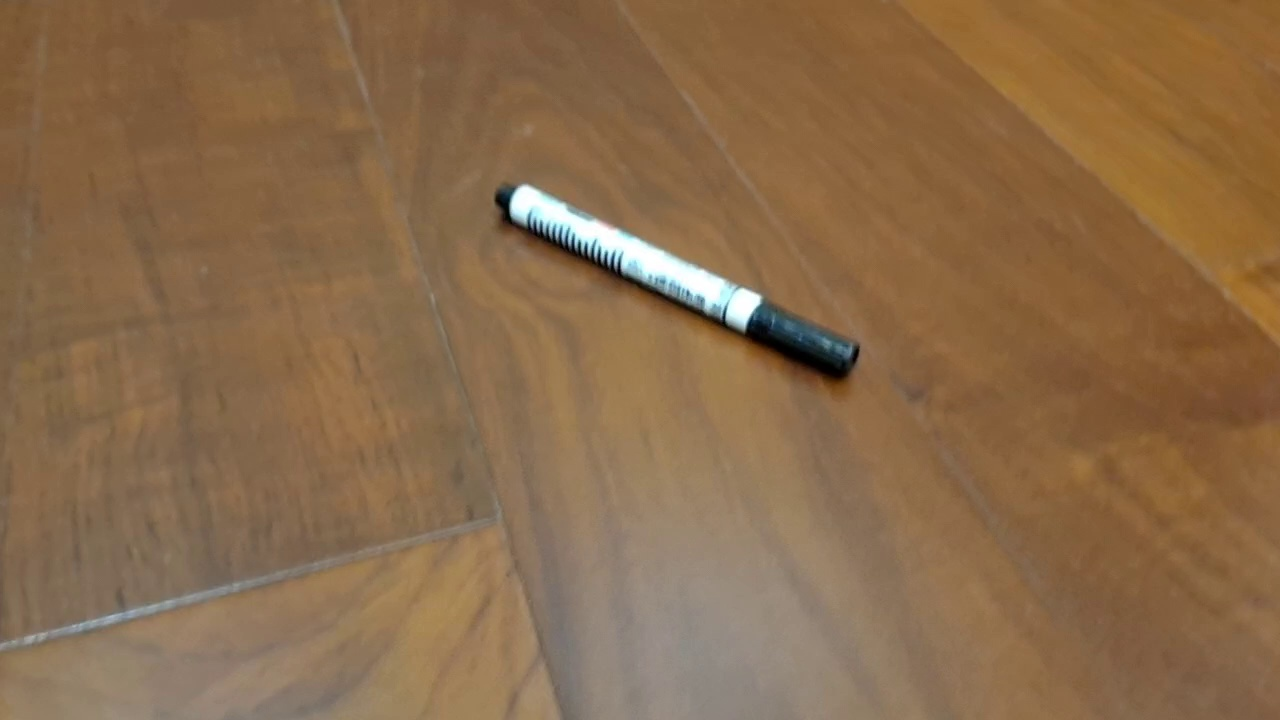pen: (492, 179, 861, 381)
